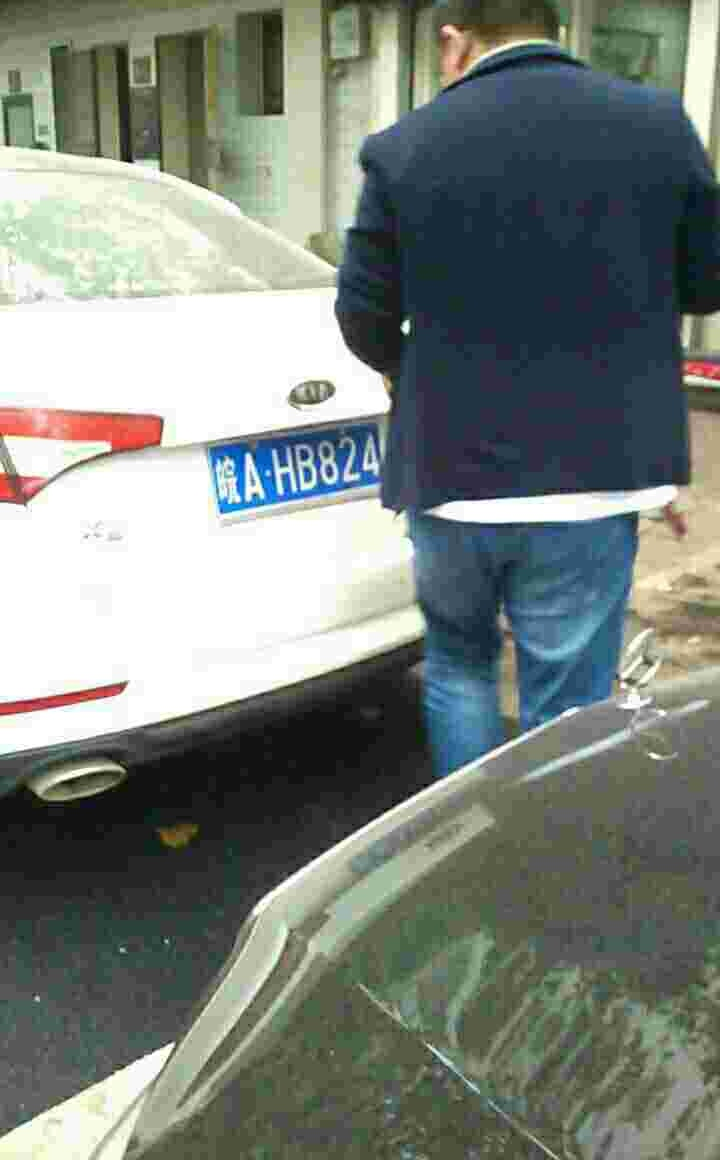plate: (213, 416, 394, 518)
